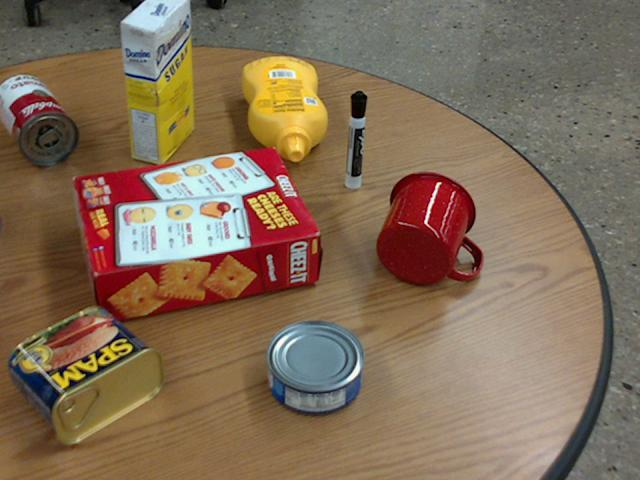cracker_box: (76, 148, 320, 322)
large_marker: (346, 90, 367, 187)
master_chef_can: (0, 217, 1, 226)
mug: (377, 171, 482, 284)
mustard_bottle: (242, 57, 327, 160)
potted_meat_can: (6, 305, 161, 443)
sugar_box: (121, 0, 194, 164)
tomato_soup_can: (0, 74, 78, 164)
tuna_fish_can: (265, 320, 363, 414)
